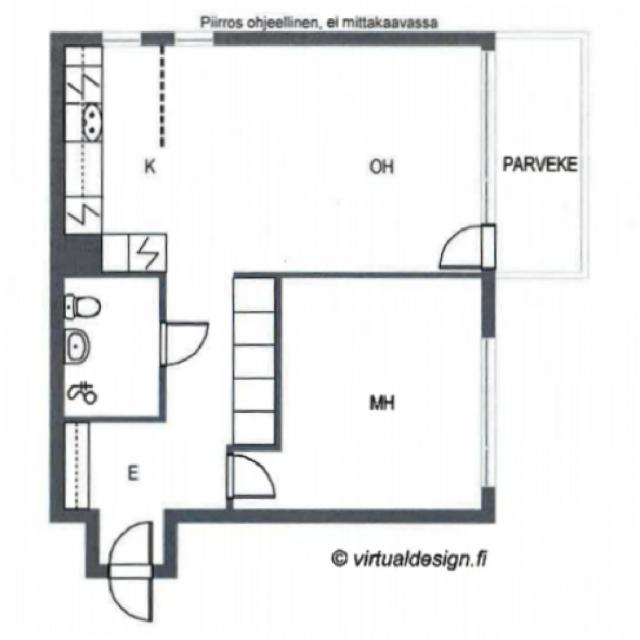door: (109, 523, 152, 579), (109, 566, 152, 621), (440, 226, 495, 268), (226, 456, 275, 499), (160, 323, 208, 366)
